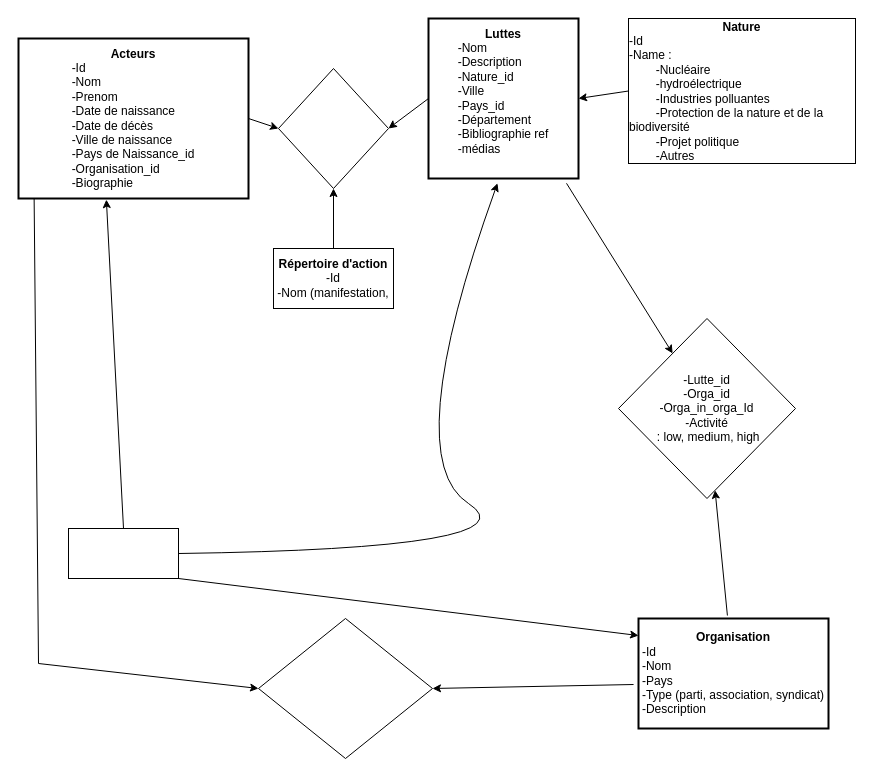
The diagram is 873 pixels wide and 776 high, and some of its shapes have lost their labels. The centre of each missing label's shape, as x and y in pixels:
"-Acteurs_id -Luttes_id -Date -Type_id" goes at pixel 333 128.
"-Acteurs_id -Orga_id -Date_début -Date_fin -Statut" goes at pixel 345 688.
"Pays -Id -Nom" goes at pixel 123 553.
